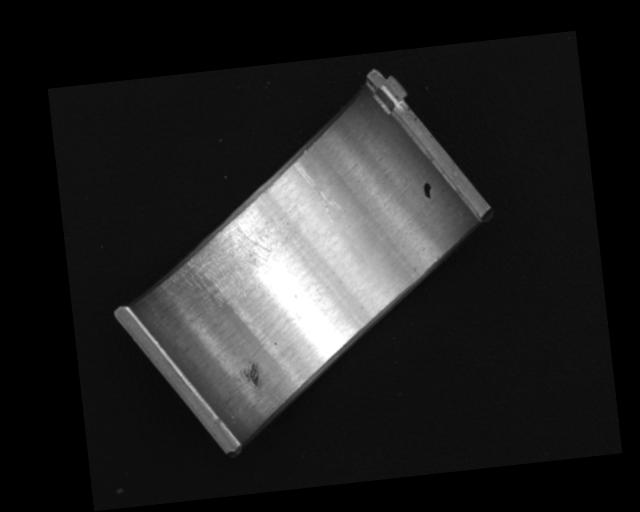blot: (421, 181, 433, 200)
bruise: (242, 358, 262, 388)
nick: (292, 157, 344, 229)
scratch: (154, 206, 294, 314)
